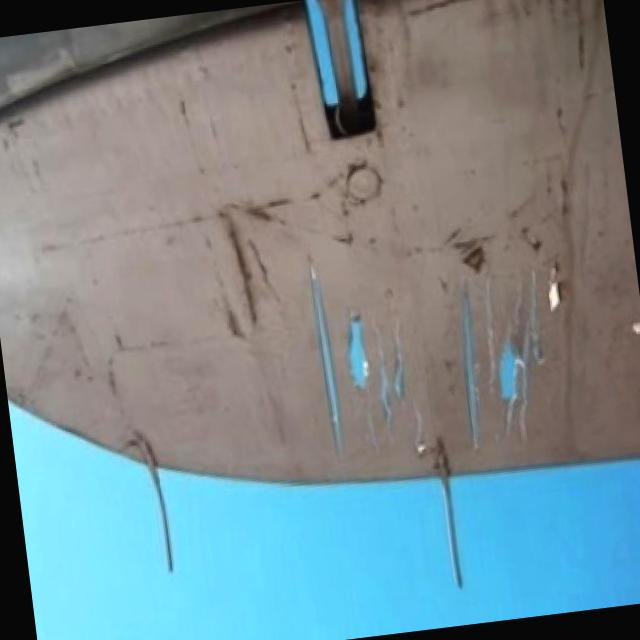crack: (294, 214, 571, 475)
